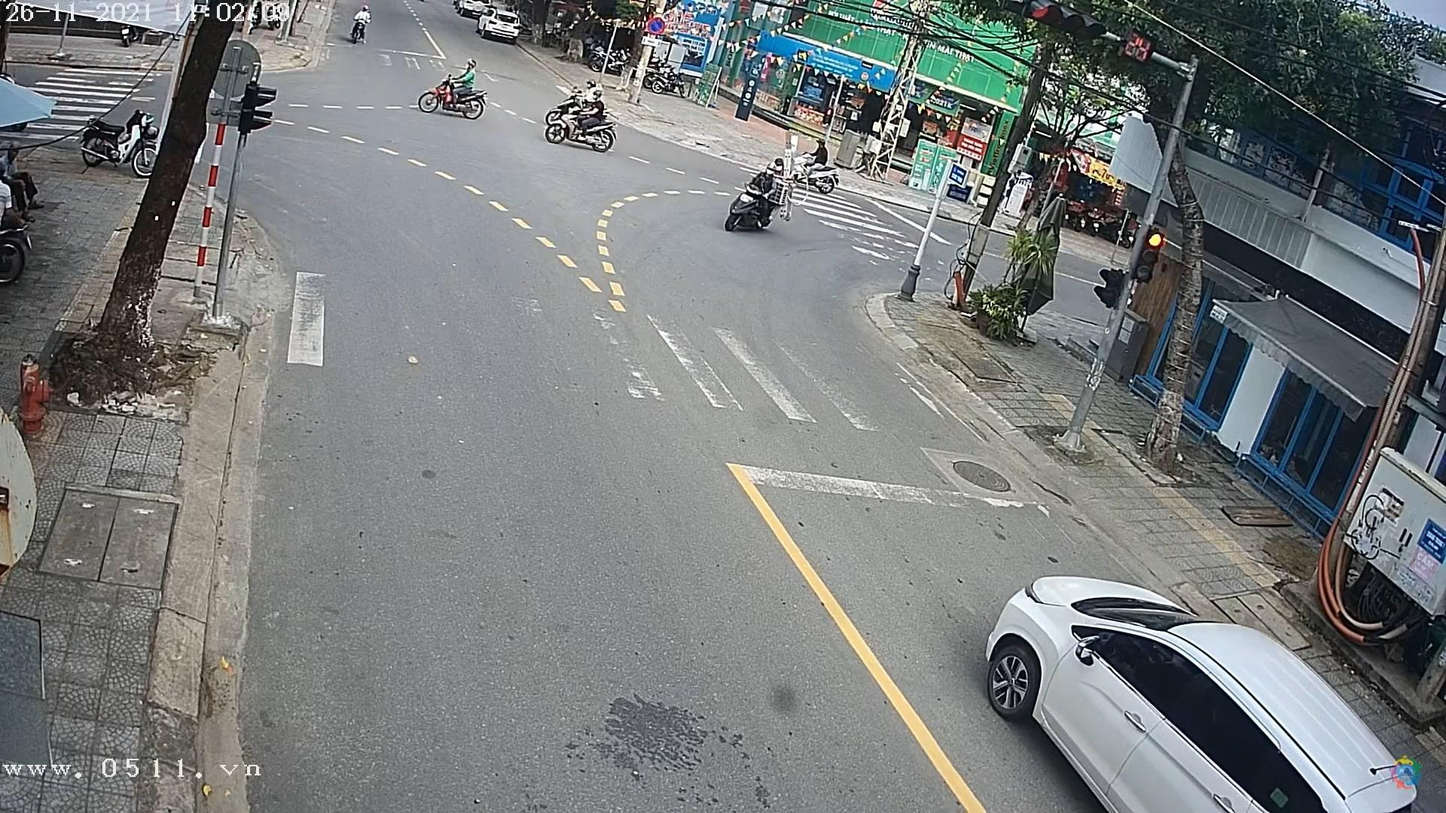motorbike: (545, 103, 618, 151), (723, 187, 783, 231), (416, 81, 485, 117)
